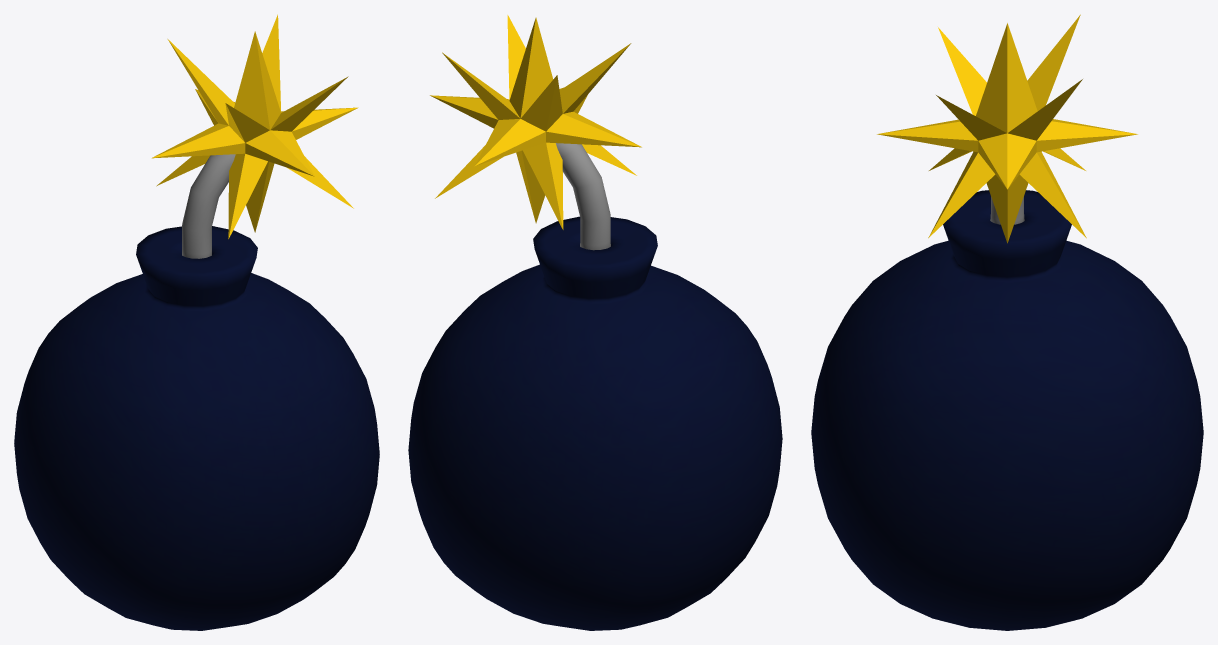
File: bombA.fbx
The picture shows the model from 3 angles, left to right: view 1: azimuth 30°, elevation 25°; view 2: azimuth 150°, elevation 25°; view 3: azimuth 270°, elevation 25°; orthographic projection. The views are drawn at different scales.
Parts seen in each view (by area): view 1: bombA; view 2: bombA; view 3: bombA.
Part boxes in pixels (x1=…): bombA: x1=14, y1=14, x2=379, y2=630; bombA: x1=408, y1=15, x2=782, y2=630; bombA: x1=811, y1=14, x2=1203, y2=630.
Size of the model in its own units: 0.9274 by 1.58 by 0.9084.
